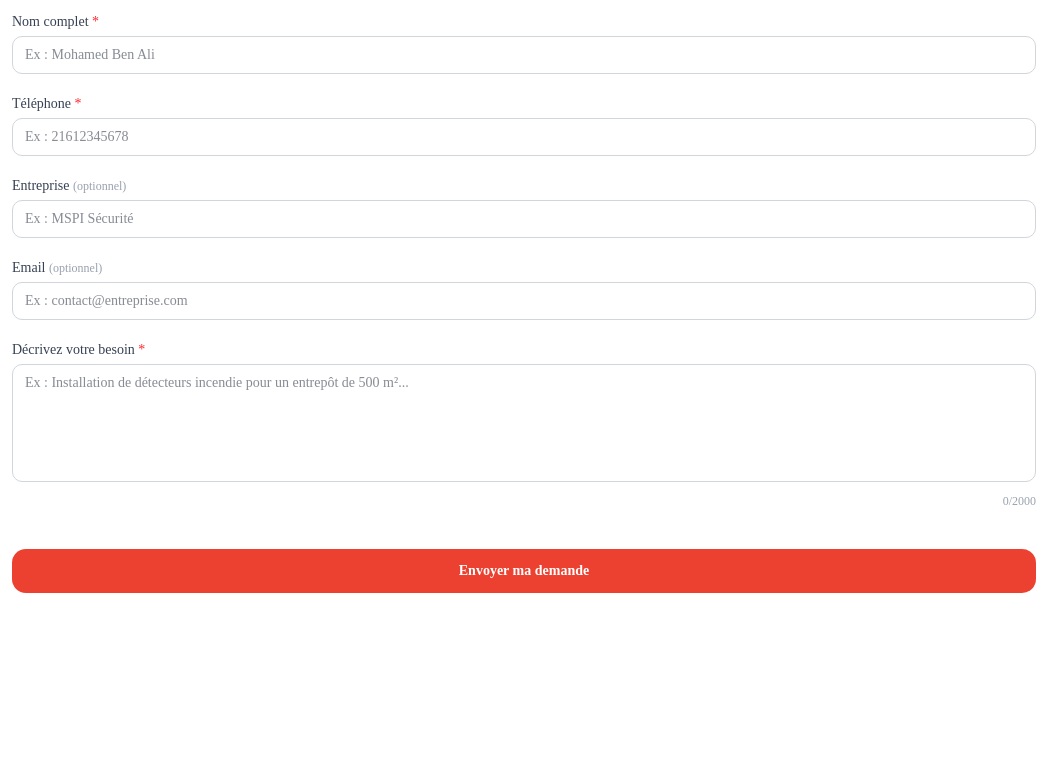
it: QuoteForm › shows minLength validation error when message is too short
Type "John Doe" into the field with placeholder "Ex : Mohamed Ben Ali" at (524,55), box [12, 36, 1036, 74]
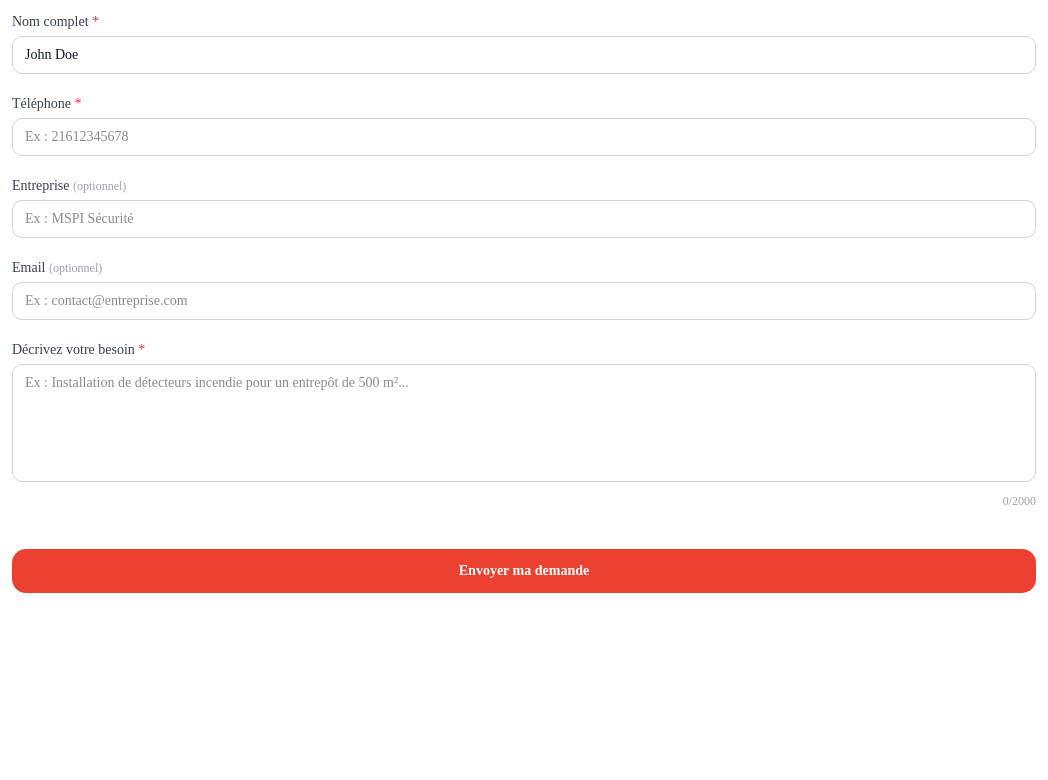
Type "21699999999" into the field with placeholder "Ex : 21612345678" at (524,137), box [12, 118, 1036, 156]
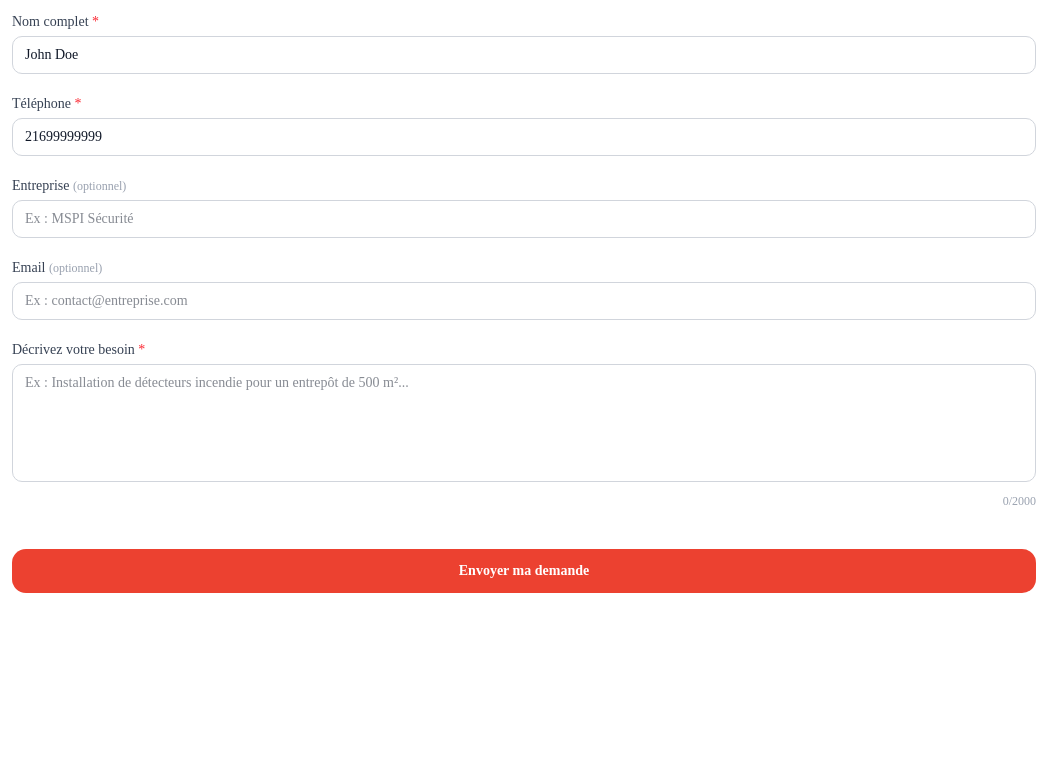
Replace the text in the text box with placeholder "Installation de détecteurs incendie pour un entrepôt de 500 m²" with "Trop court" at (524,423), box [12, 364, 1036, 482]
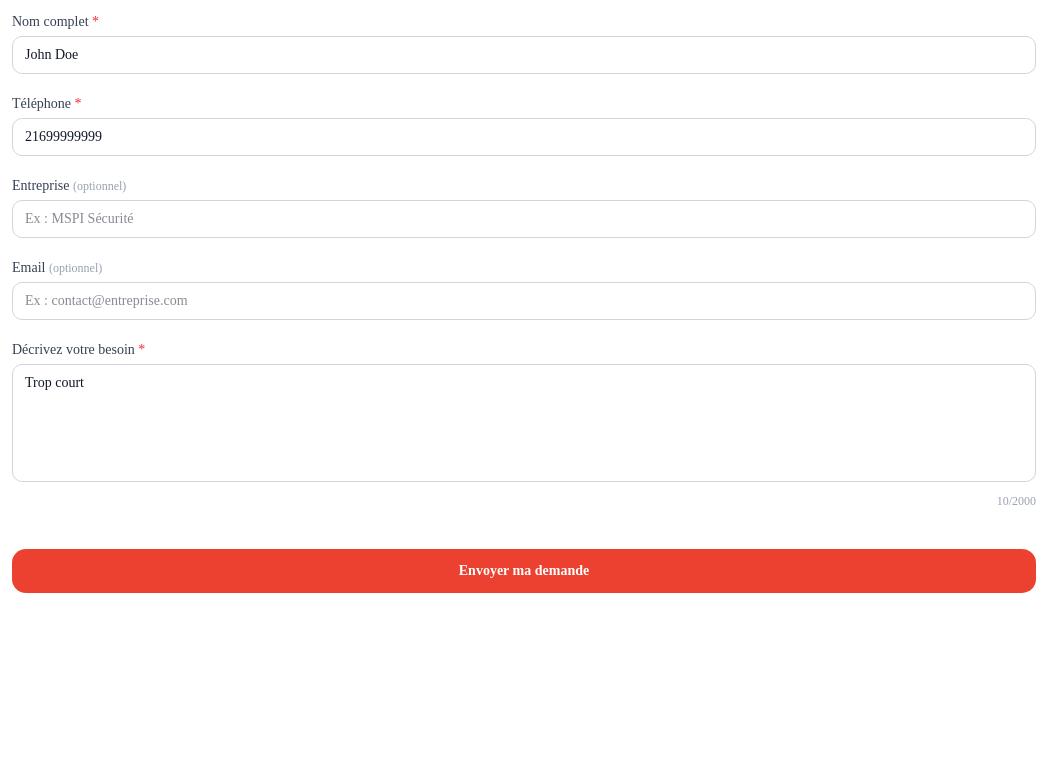
Click the button "Envoyer ma demande" at (524,571), box [12, 549, 1036, 593]
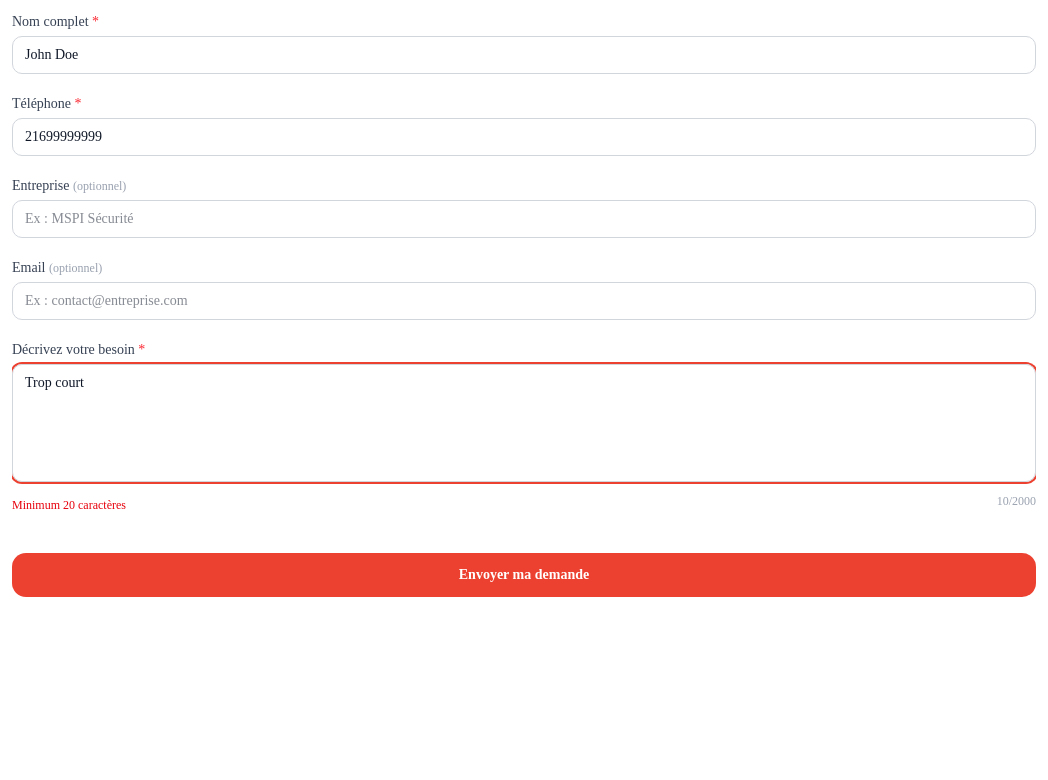
Expected: the text "Minimum 20 caractères" is shown, [12, 497, 126, 513]
